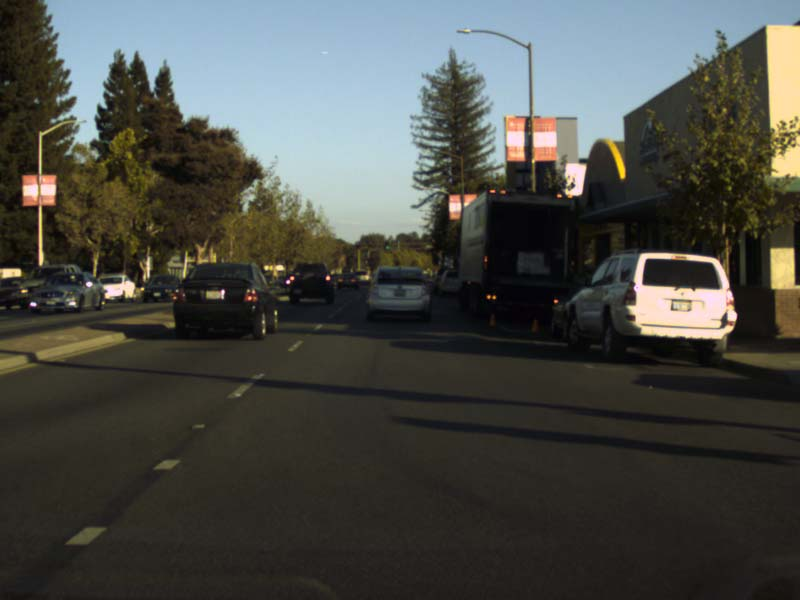Green: (384, 239, 390, 252)
